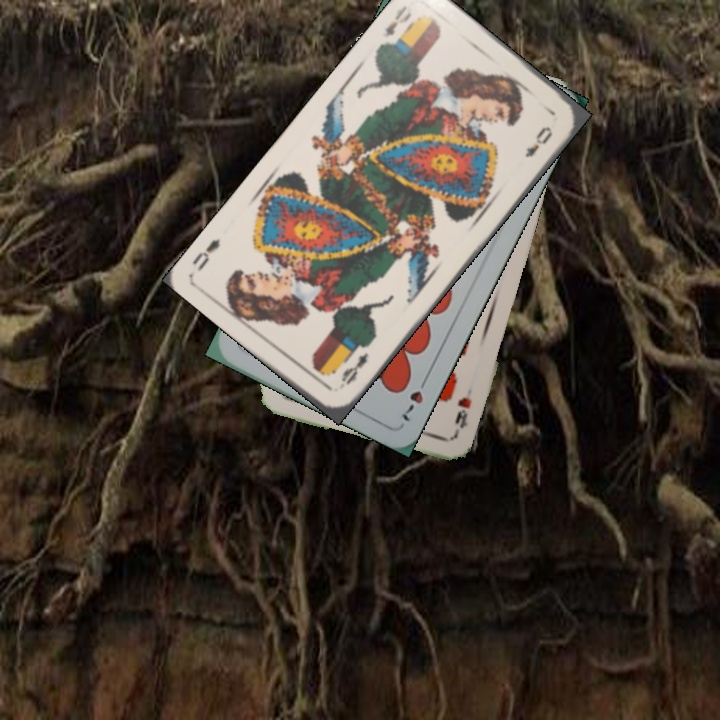EO: (335, 348, 371, 392), (378, 1, 414, 39)
H7: (398, 370, 432, 424)
H9: (450, 384, 475, 438)
